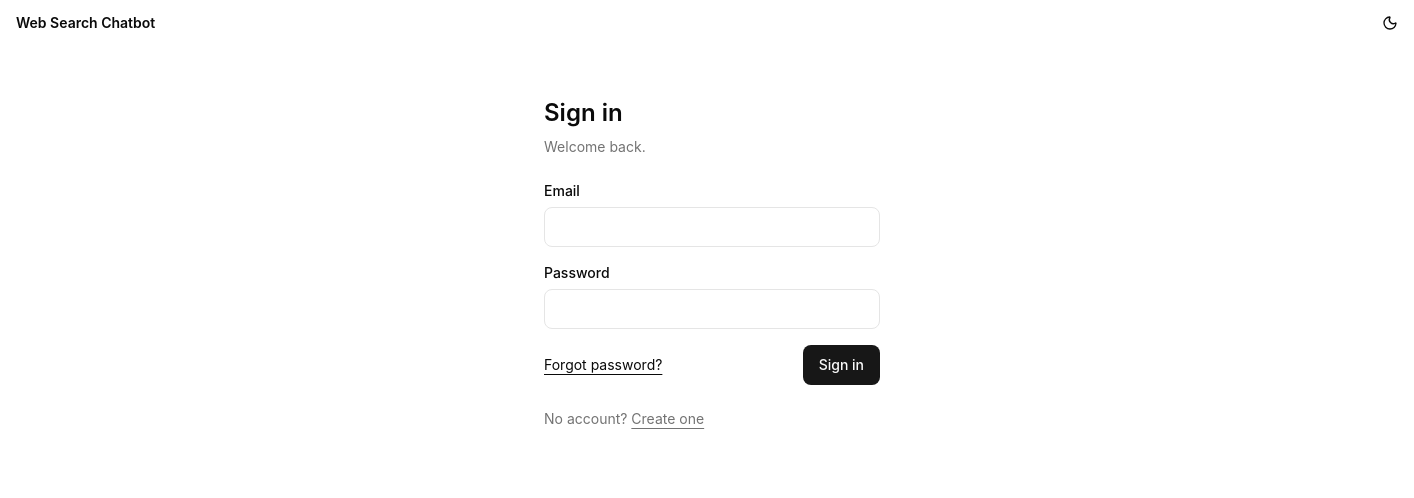
Test: sign-in form › validates before making a request
Expected: the heading "Sign in" is shown, [544,98,623,127]
Click the button "Sign in": (841, 365) [803,345,880,385]
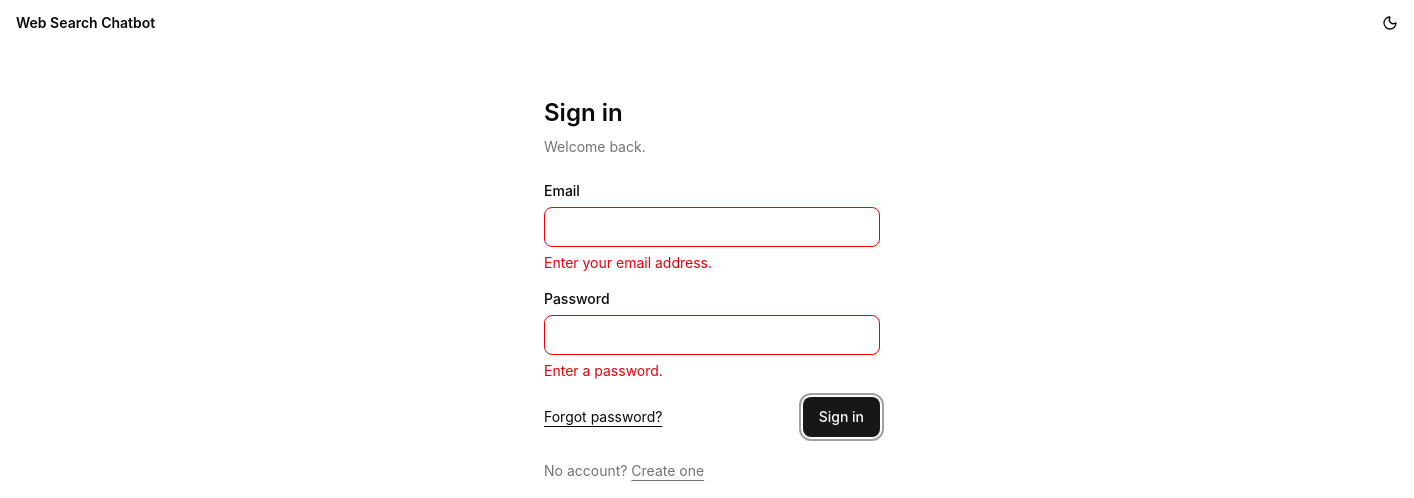
Now the text "Enter your email address." is shown, box [544,254,712,271]
Now the text "Enter a password." is shown, box [544,362,663,379]
